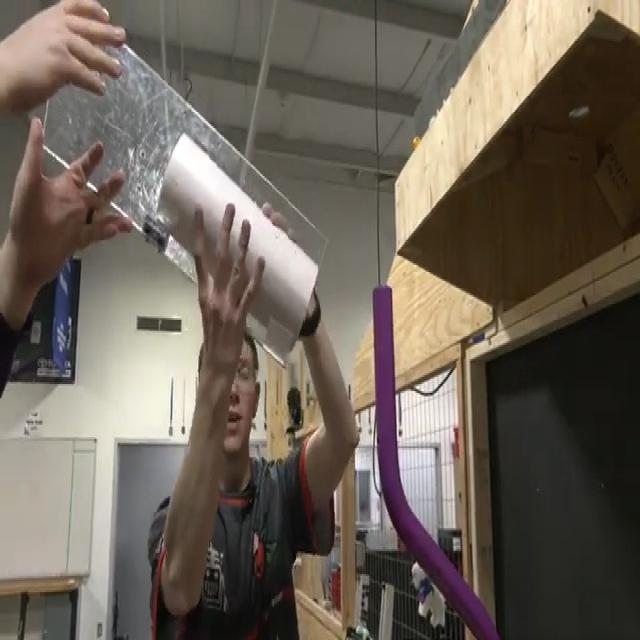Coral: (156, 133, 320, 360)
